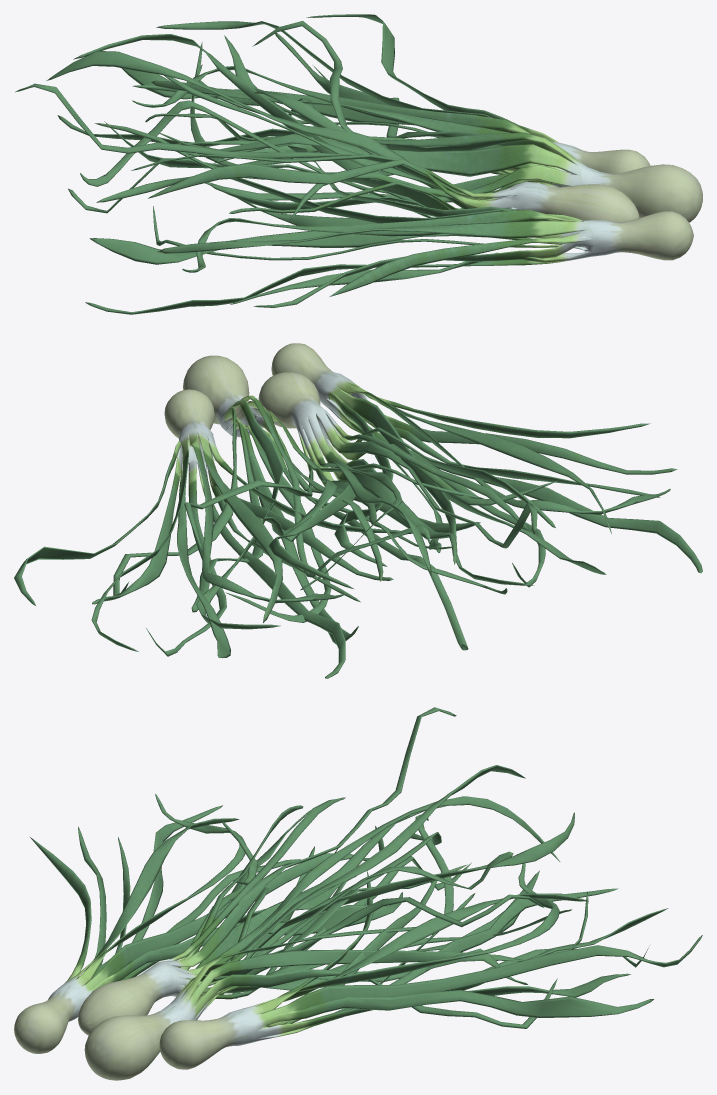
The picture shows the model from 3 angles, top to bottom: view 1: azimuth 30°, elevation 25°; view 2: azimuth 150°, elevation 25°; view 3: azimuth 270°, elevation 25°; orthographic projection. The views are drawn at different scales.
Visible parts, largest first — view 1: Model_025_Spring_Onion_00, Model_025_Spring_Onion_01, Model_025_Spring_Onion_03, Model_025_Spring_Onion_02; view 2: Model_025_Spring_Onion_00, Model_025_Spring_Onion_02, Model_025_Spring_Onion_01, Model_025_Spring_Onion_03; view 3: Model_025_Spring_Onion_02, Model_025_Spring_Onion_01, Model_025_Spring_Onion_03, Model_025_Spring_Onion_00.
Part boxes in pixels (<box>): Model_025_Spring_Onion_00: <box>85,145,693,314</box>; Model_025_Spring_Onion_01: <box>15,21,639,222</box>; Model_025_Spring_Onion_03: <box>68,64,702,222</box>; Model_025_Spring_Onion_02: <box>57,14,650,174</box>; Model_025_Spring_Onion_00: <box>271,343,702,587</box>; Model_025_Spring_Onion_02: <box>14,389,400,678</box>; Model_025_Spring_Onion_01: <box>184,372,558,594</box>; Model_025_Spring_Onion_03: <box>113,355,484,650</box>; Model_025_Spring_Onion_02: <box>159,863,702,1069</box>; Model_025_Spring_Onion_01: <box>78,707,574,1035</box>; Model_025_Spring_Onion_03: <box>84,814,588,1080</box>; Model_025_Spring_Onion_00: <box>14,794,402,1053</box>.
Size of the model in its own units: 93.51 by 23.54 by 100.
1 material, 1 textured.
